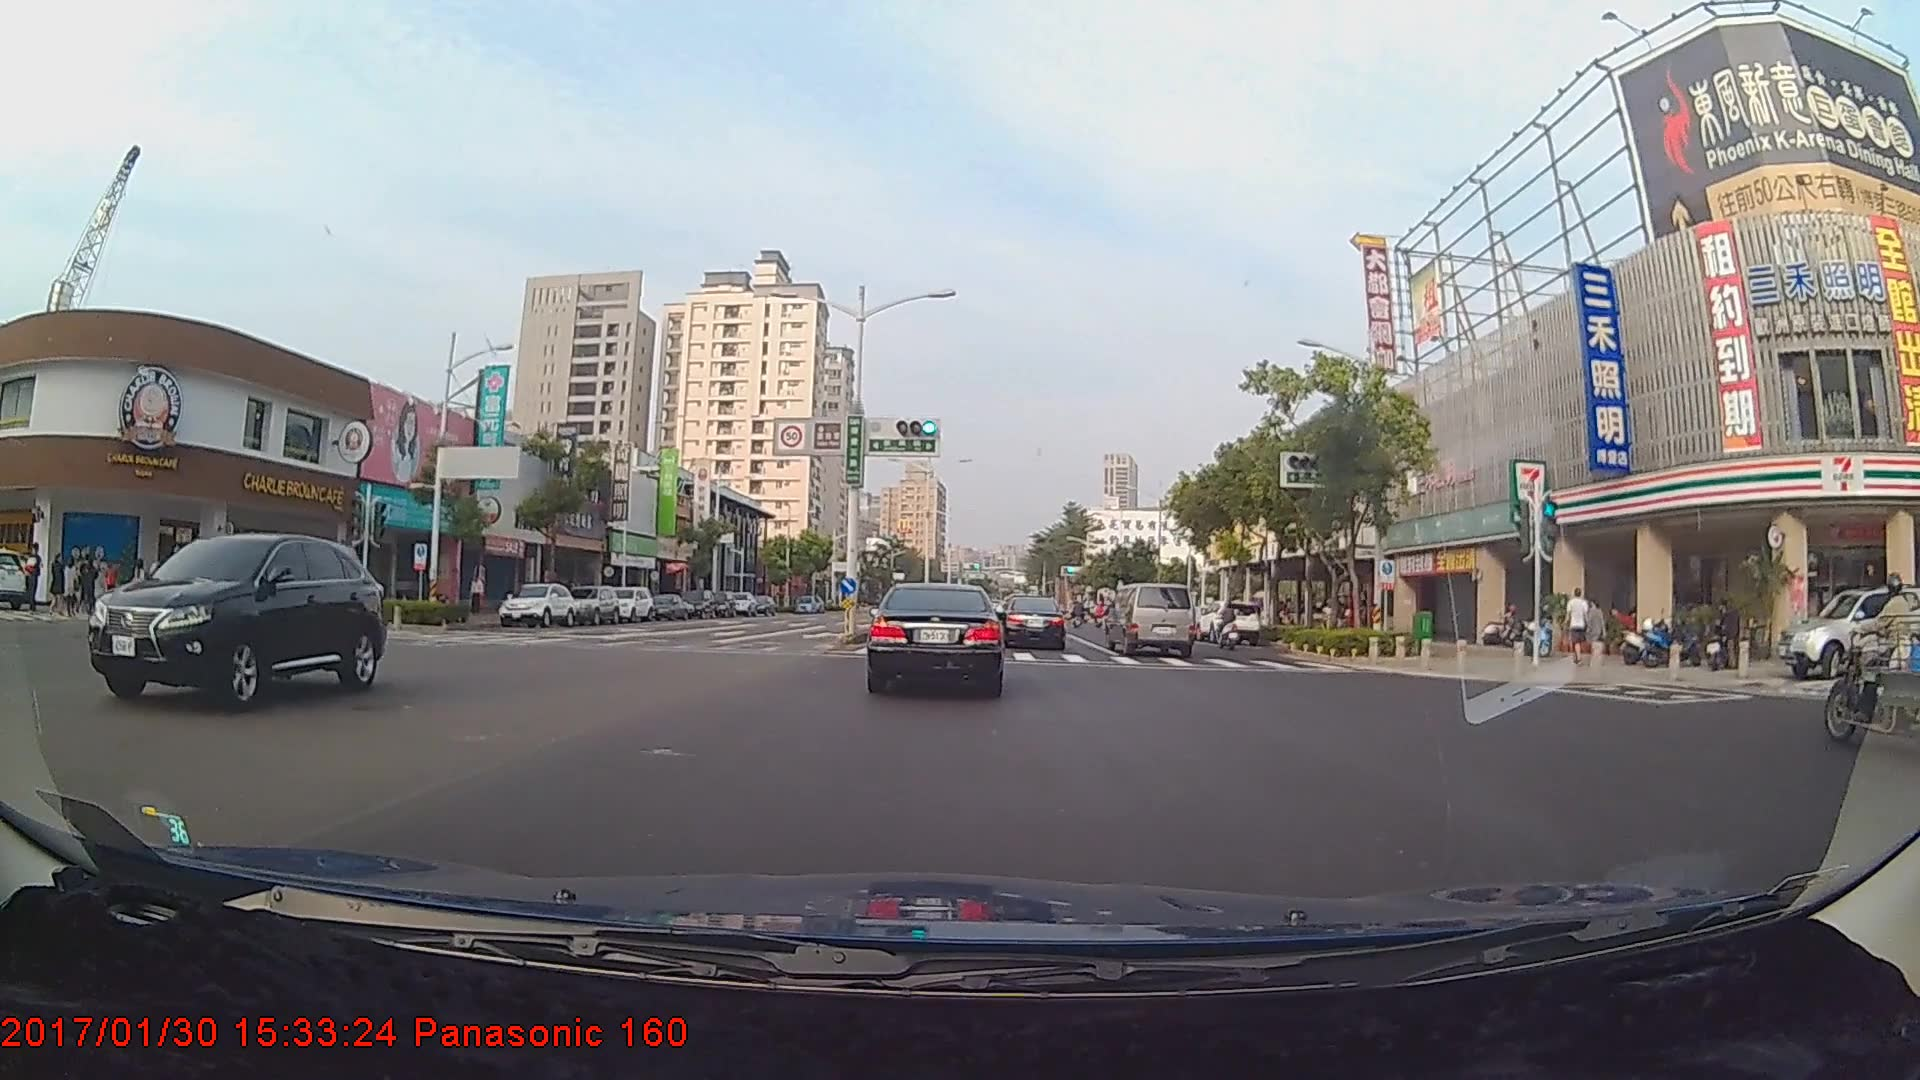pedestrian: (1564, 587, 1591, 661), (1588, 598, 1611, 671), (79, 555, 100, 616), (468, 573, 491, 618)
rider: (1211, 595, 1245, 647)
vehicle: (96, 528, 386, 707), (866, 580, 1003, 696), (1776, 583, 1919, 677), (1108, 582, 1194, 659), (496, 580, 579, 627), (998, 596, 1067, 650), (1202, 598, 1264, 646), (564, 584, 619, 624), (605, 586, 656, 624), (651, 591, 690, 622)
